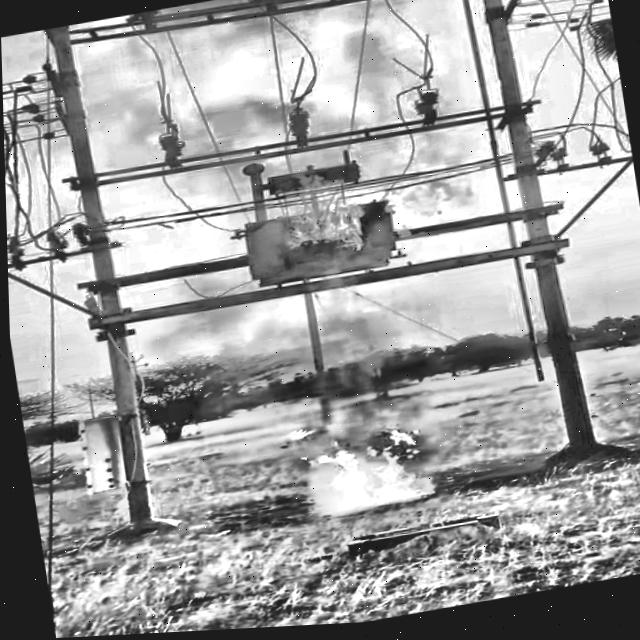Fire: (264, 150, 424, 288), (297, 419, 444, 531)
